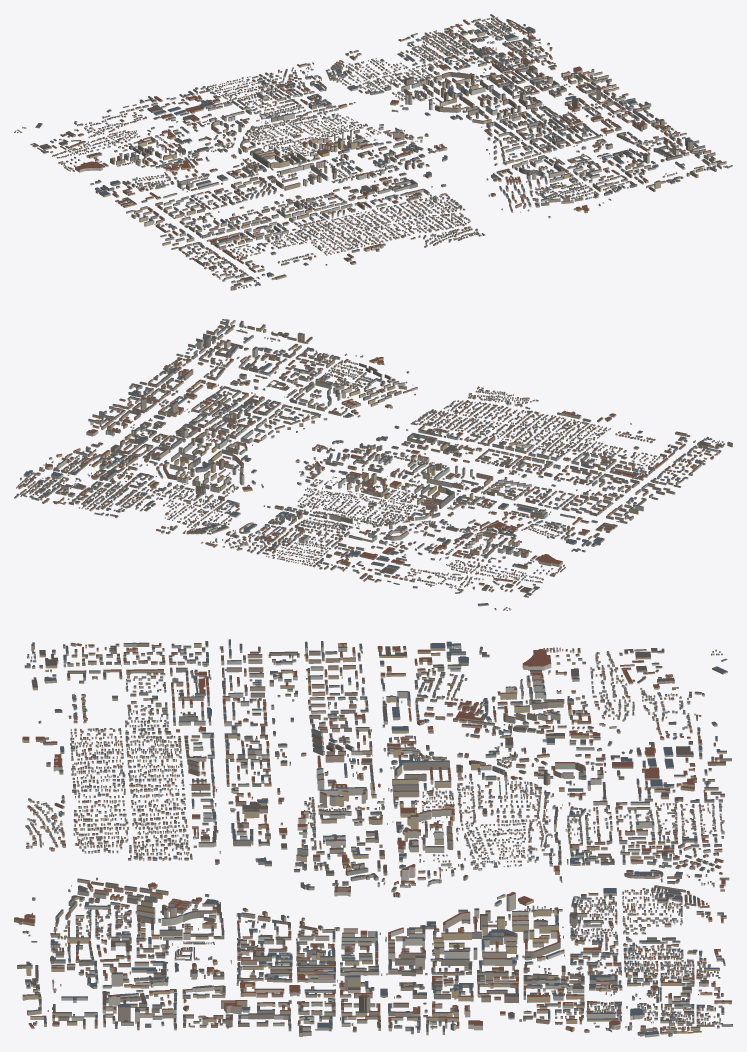
The model's file is donetskBuildings.obj.
3 renders of one model, top to bottom at view 1: azimuth 30°, elevation 25°; view 2: azimuth 150°, elevation 25°; view 3: azimuth 270°, elevation 25°, orthographic. The views are drawn at different scales.
Visible parts, largest first — view 1: buildings_0_2, buildings_0_0, buildings_0_1, buildings_2_1, buildings_0_3, buildings_2_2, buildings_2_3, buildings_2_0, buildings_3_2, buildings_3_1, buildings_3_3, buildings_1_0 (+4 smaller); view 2: buildings_0_0, buildings_0_2, buildings_0_1, buildings_2_1, buildings_0_3, buildings_2_2, buildings_2_0, buildings_2_3, buildings_3_2, buildings_1_0, buildings_3_1, buildings_3_3 (+4 smaller); view 3: buildings_0_0, buildings_0_2, buildings_0_1, buildings_2_1, buildings_2_3, buildings_0_3, buildings_2_0, buildings_2_2, buildings_3_1, buildings_1_0, buildings_3_2, buildings_3_3 (+4 smaller).
Part boxes in pixels (x1=…): buildings_0_2: x1=502, y1=87, x2=674, y2=163; buildings_0_0: x1=397, y1=14, x2=552, y2=83; buildings_0_1: x1=445, y1=54, x2=619, y2=122; buildings_2_1: x1=198, y1=115, x2=361, y2=178; buildings_0_3: x1=555, y1=130, x2=732, y2=200; buildings_2_2: x1=249, y1=150, x2=429, y2=219; buildings_2_3: x1=302, y1=196, x2=481, y2=252; buildings_2_0: x1=139, y1=74, x2=311, y2=134; buildings_3_2: x1=126, y1=180, x2=296, y2=249; buildings_3_1: x1=68, y1=138, x2=241, y2=207; buildings_3_3: x1=178, y1=221, x2=356, y2=290; buildings_1_0: x1=265, y1=50, x2=434, y2=114; buildings_0_0: x1=14, y1=451, x2=188, y2=518; buildings_0_2: x1=119, y1=360, x2=299, y2=436; buildings_0_1: x1=73, y1=403, x2=236, y2=477; buildings_2_1: x1=313, y1=470, x2=490, y2=537; buildings_0_3: x1=175, y1=319, x2=348, y2=395; buildings_2_2: x1=368, y1=425, x2=549, y2=495; buildings_2_0: x1=256, y1=513, x2=424, y2=582; buildings_2_3: x1=428, y1=387, x2=592, y2=456; buildings_3_2: x1=497, y1=455, x2=681, y2=523; buildings_1_0: x1=150, y1=476, x2=308, y2=553; buildings_3_1: x1=436, y1=500, x2=617, y2=568; buildings_3_3: x1=554, y1=413, x2=732, y2=485; buildings_0_0: x1=525, y1=930, x2=732, y2=1037; buildings_0_2: x1=192, y1=935, x2=380, y2=1036; buildings_0_1: x1=374, y1=930, x2=550, y2=1035; buildings_2_1: x1=369, y1=742, x2=550, y2=848; buildings_2_3: x1=25, y1=741, x2=210, y2=847; buildings_0_3: x1=17, y1=932, x2=209, y2=1030; buildings_2_0: x1=548, y1=745, x2=731, y2=847; buildings_2_2: x1=198, y1=738, x2=378, y2=847; buildings_3_1: x1=377, y1=641, x2=554, y2=747; buildings_1_0: x1=539, y1=843, x2=729, y2=940; buildings_3_2: x1=201, y1=639, x2=371, y2=747; buildings_3_3: x1=22, y1=642, x2=206, y2=745.
Size of the model in its own units: 4675 by 155 by 3627.
